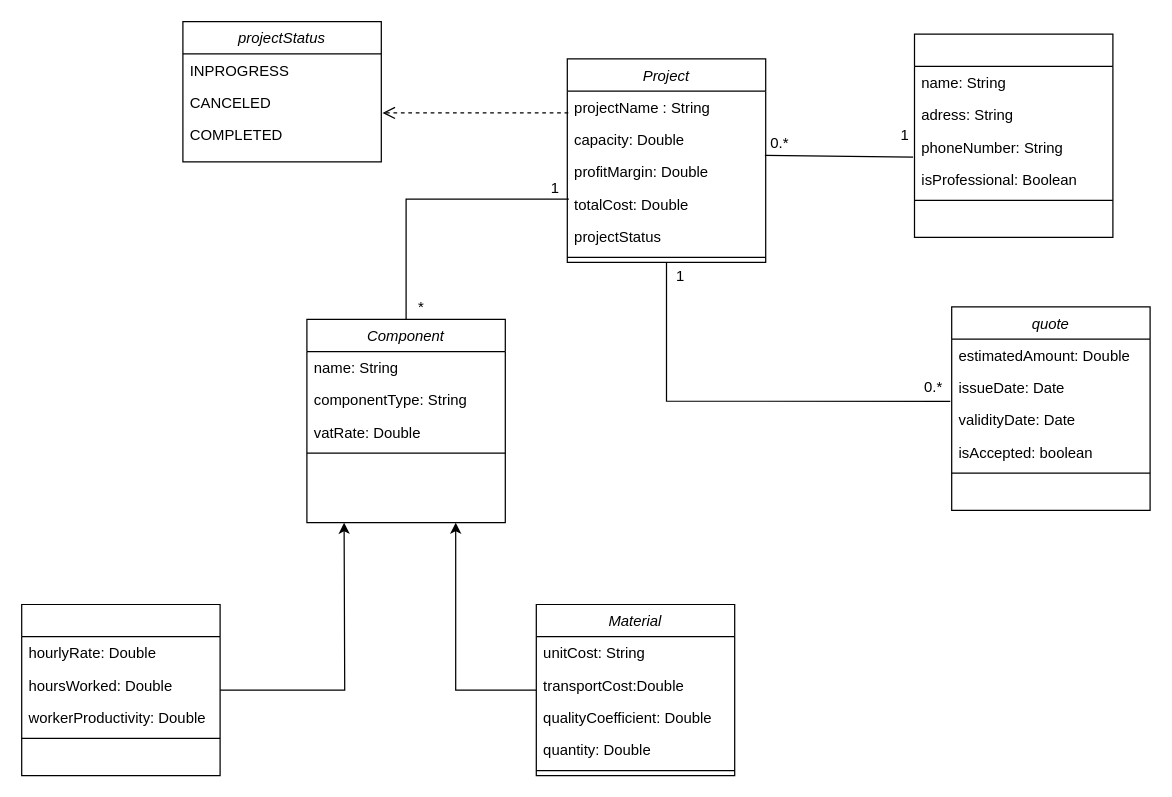
Image size: 1172x797. Some labels were removed from this diagram. Here are the shapes that lost their labels. From the top down, the box of each, then its label:
(913, 33, 1113, 237): Client
(20, 603, 220, 776): Labor
